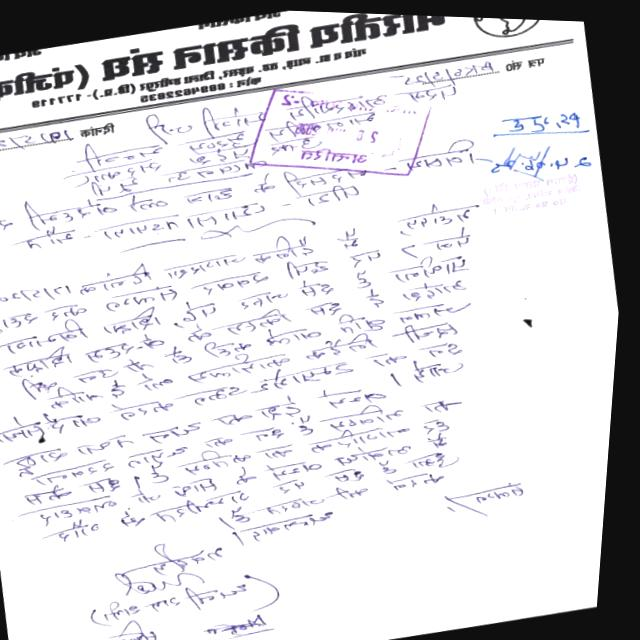afidivitstamp: (0, 0, 587, 163)
antritgovtstamp: (224, 58, 448, 208)
